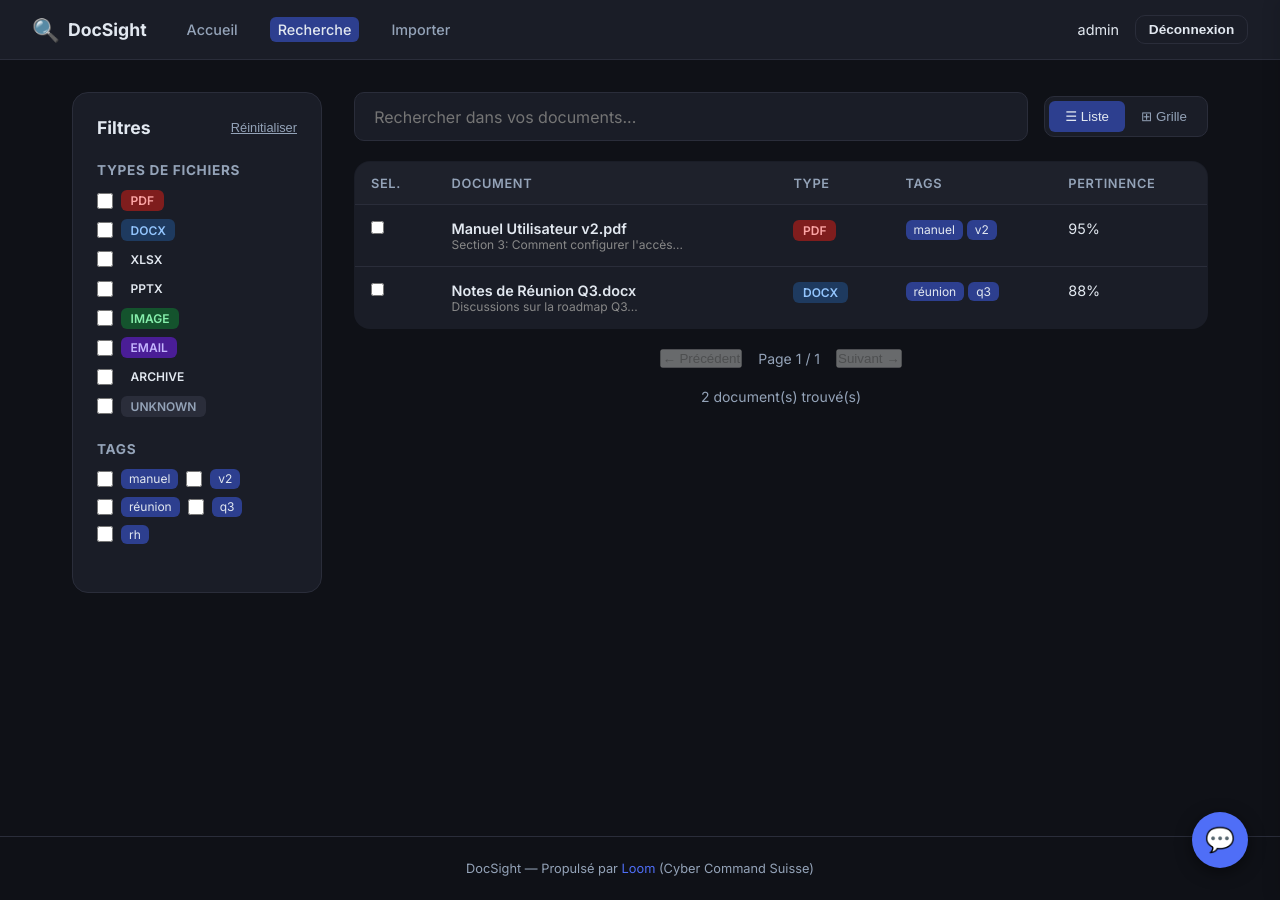
Scenario: Search Page › debounces search input
expect the text "Notes de Réunion Q3.docx" is shown: met, box x1=452 y1=282 x2=636 y2=298
Type "manuel" into the field with placeholder "Rechercher dans vos documents...". click: (691, 117)
box: x1=354 y1=92 x2=1028 y2=141
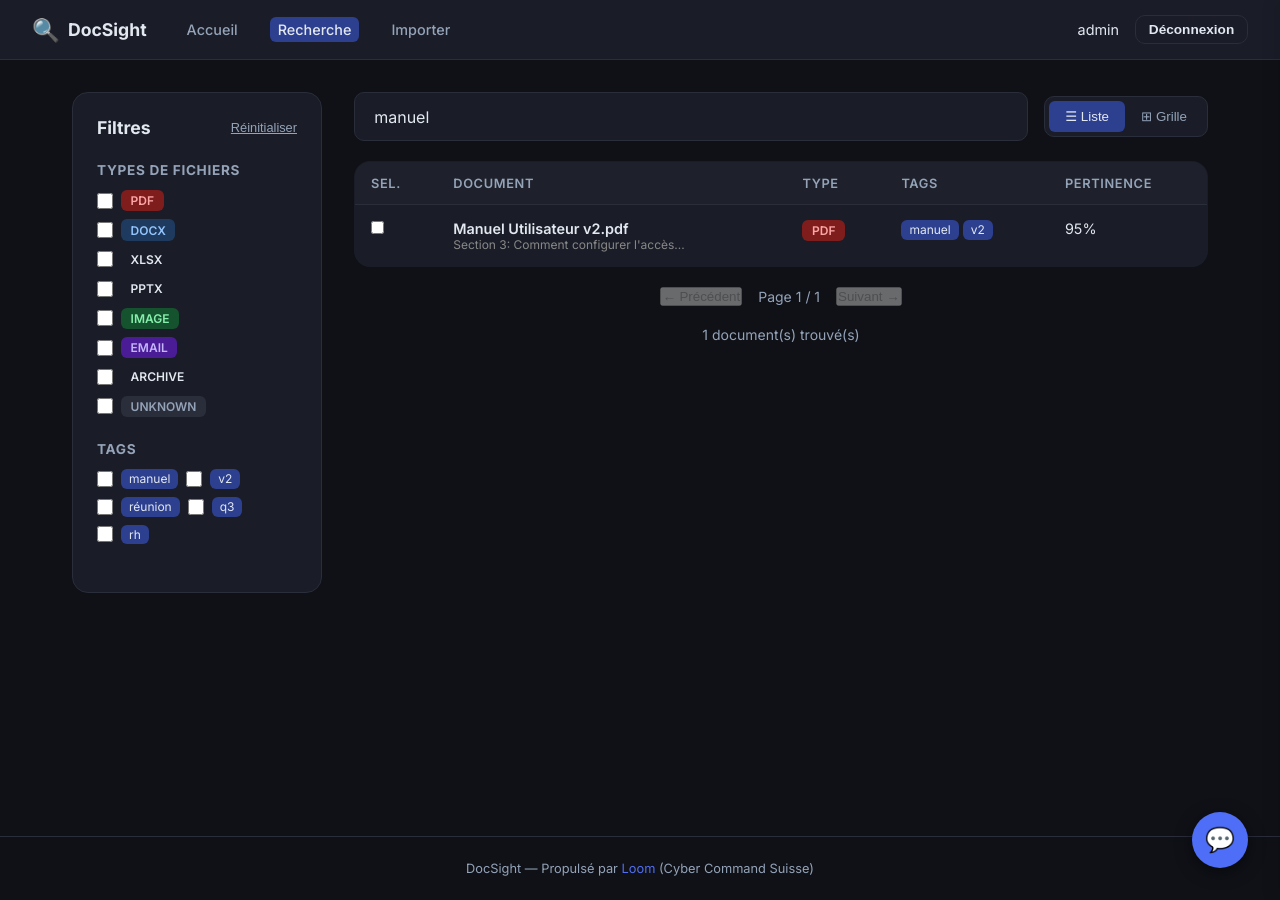
expect the text "Manuel Utilisateur v2.pdf" is shown: met, box x1=453 y1=220 x2=629 y2=237
expect the text "Notes de Réunion Q3.docx" is gone: met
